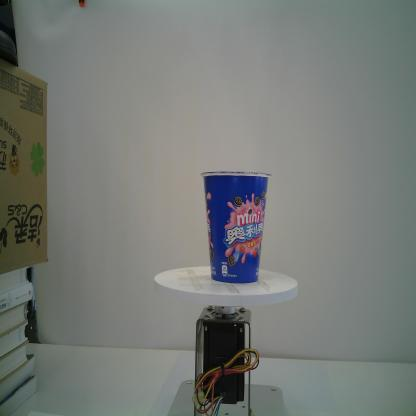Dessert: (200, 171, 272, 283)
